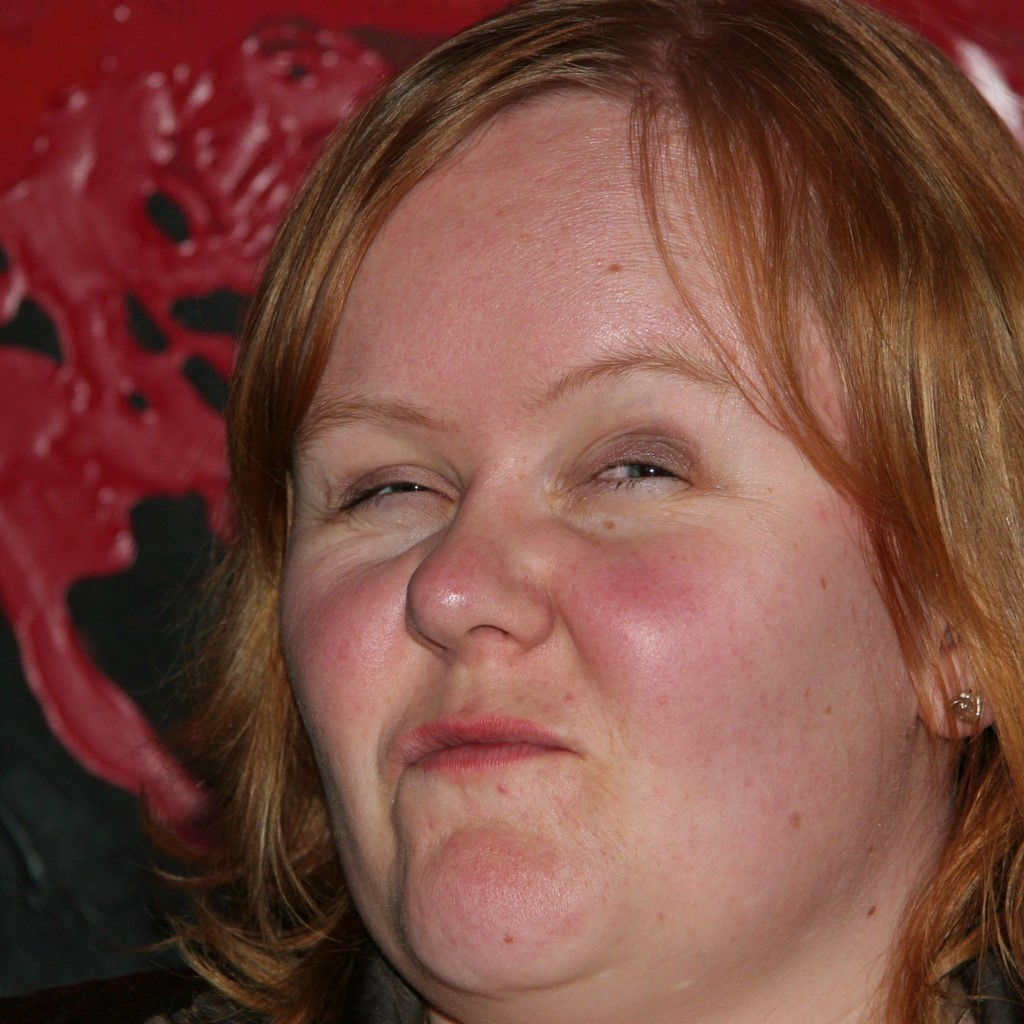sin_mascara: (254, 83, 970, 1004)
